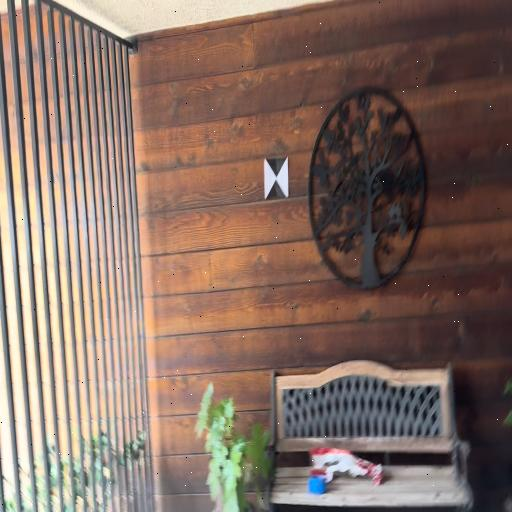target: (264, 158, 288, 197)
